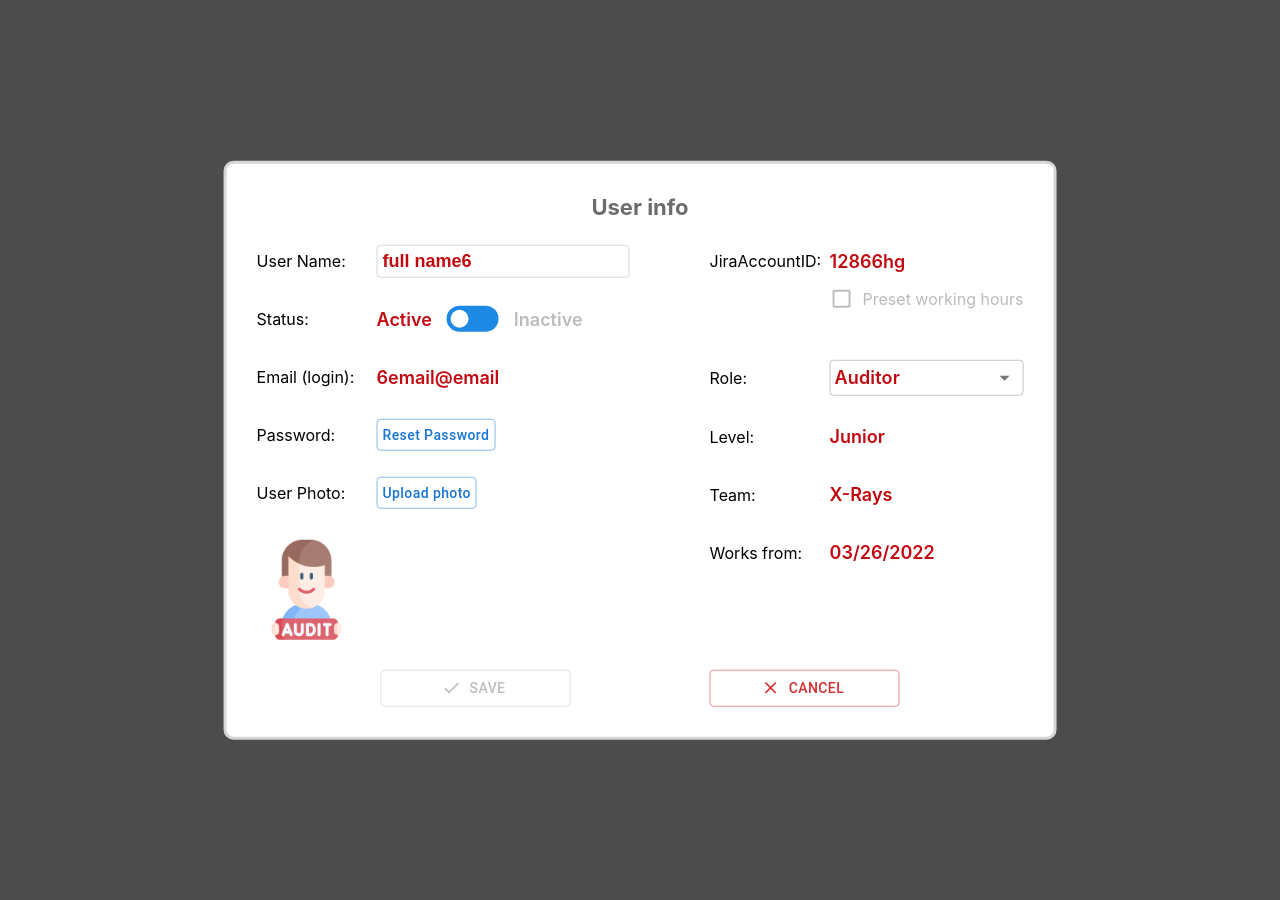
Test case: UserInfoModalContainer editable test › UserInfoModalContainer has elements
The image size is (1280, 900).
Check: the button "Cancel" is shown, box [710,670,900,706]
Check: the button "Save" is disabled, box [380,670,570,706]
Clear the field at (503, 261), box [377,244,630,277]
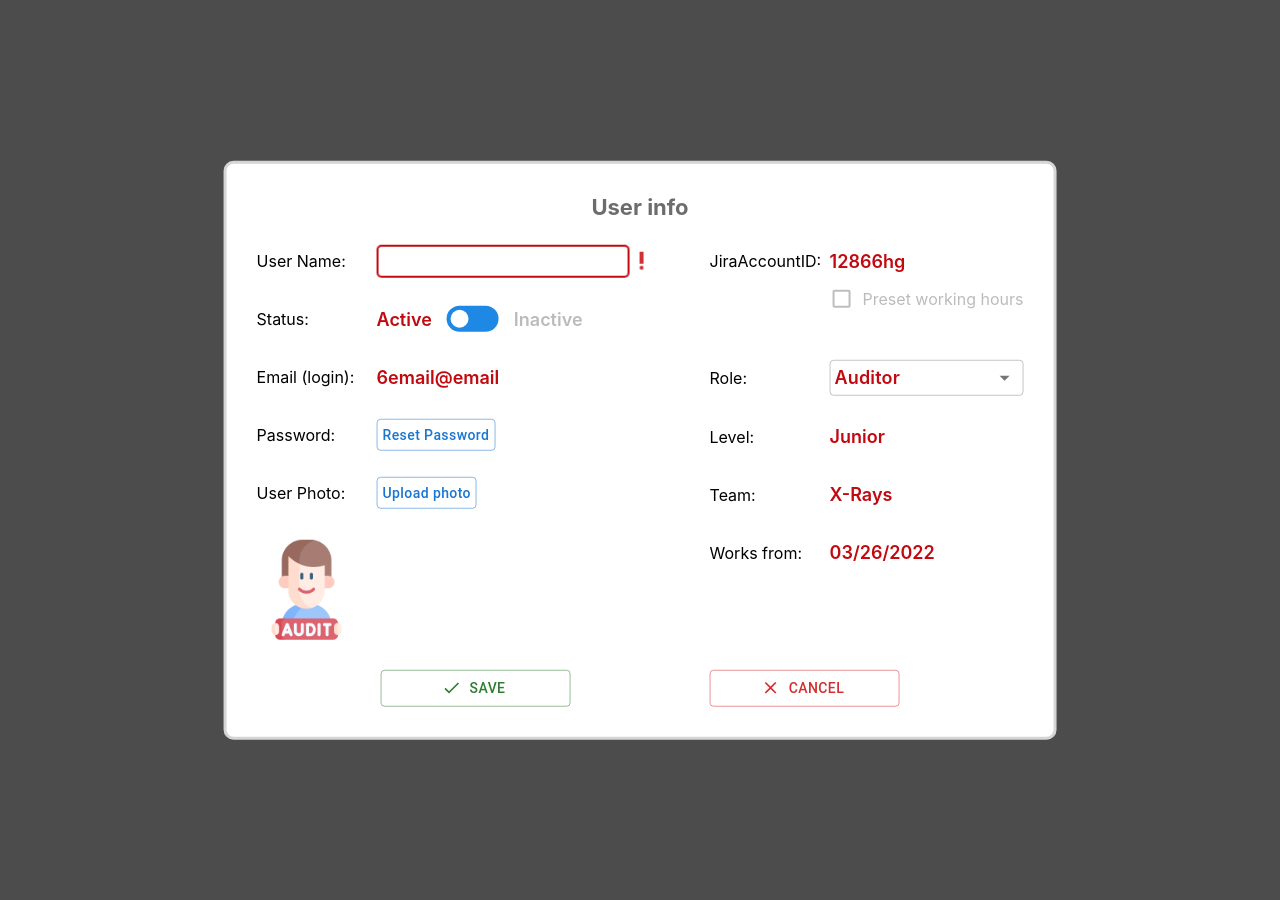
Check: the icon with test id "PriorityHighIcon" is shown, box [630,248,654,272]
Check: the button "Save" is enabled, box [380,670,570,706]
Type "full name6" into the field.
click(503, 261); type("full name6")  # box [377,244,630,277]
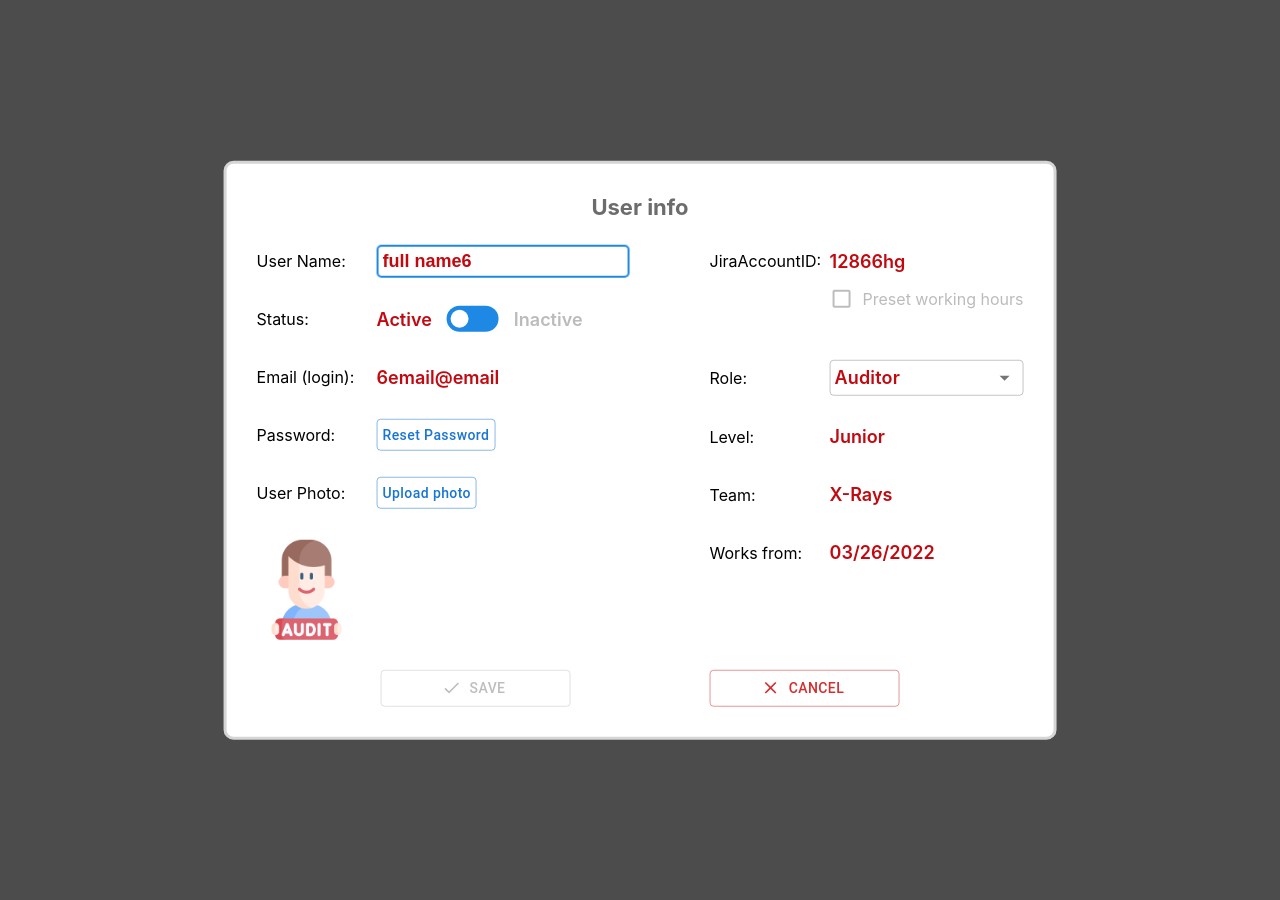
Check: the icon with test id "PriorityHighIcon" is gone
Check: the button "Save" is disabled, box [380,670,570,706]
Click the 2nd checkbox.
click(473, 319)  # box [447,306,499,332]
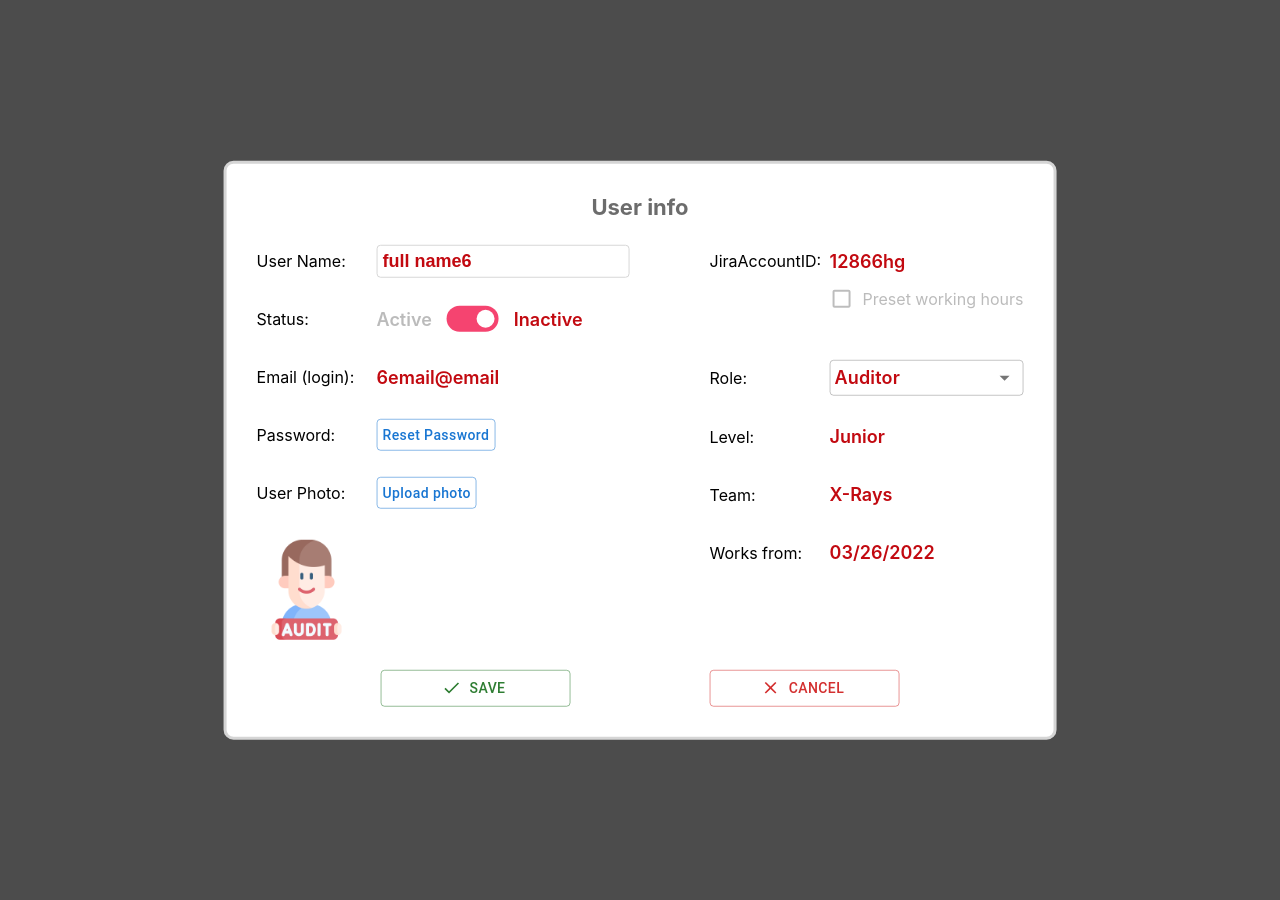
Check: the 2nd checkbox is checked
Check: the button "Save" is enabled, box [380,670,570,706]
Click the 2nd checkbox.
click(473, 319)  # box [447,306,499,332]
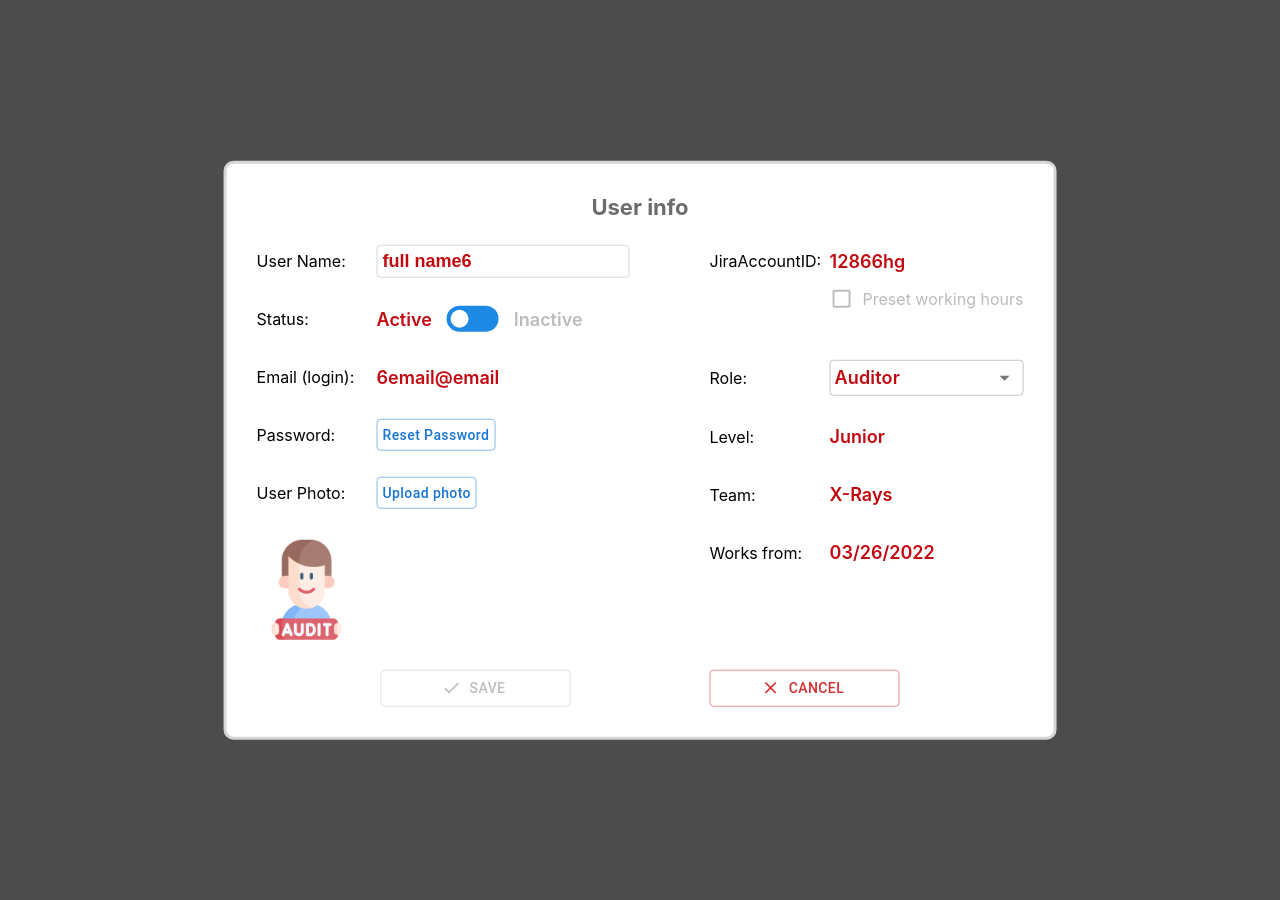
Check: the button "Save" is disabled, box [380,670,570,706]
